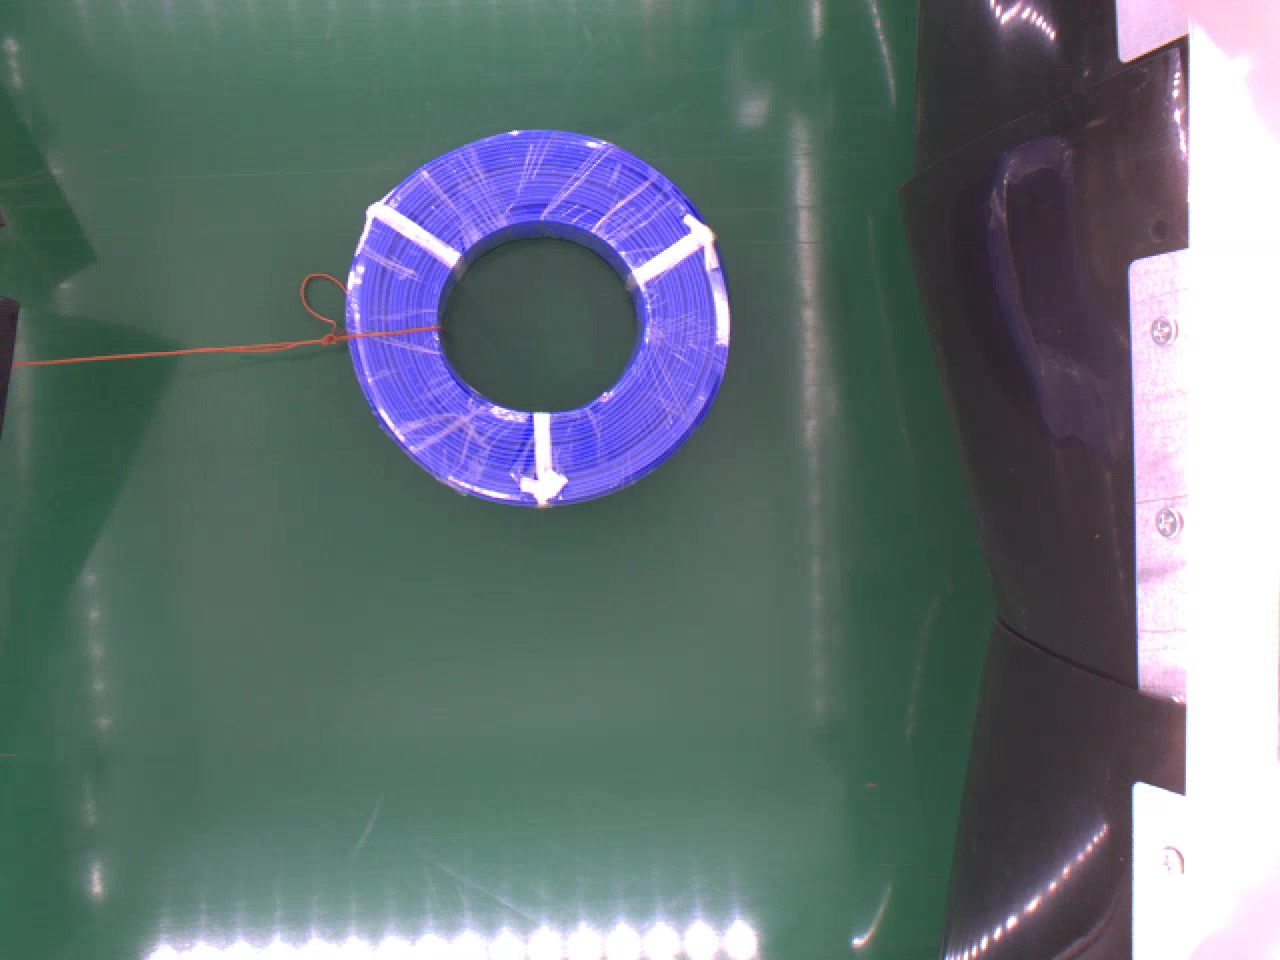blue: (341, 125, 737, 505)
